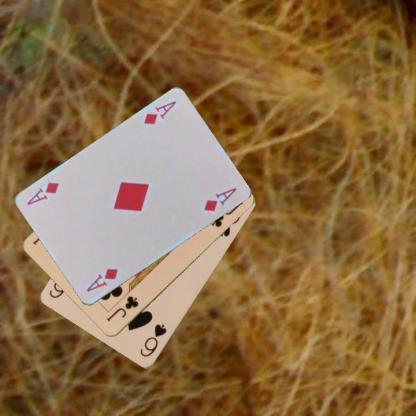6s: (137, 321, 168, 359)
Ad: (83, 265, 120, 294), (141, 98, 177, 127)
Jc: (104, 293, 140, 323)
